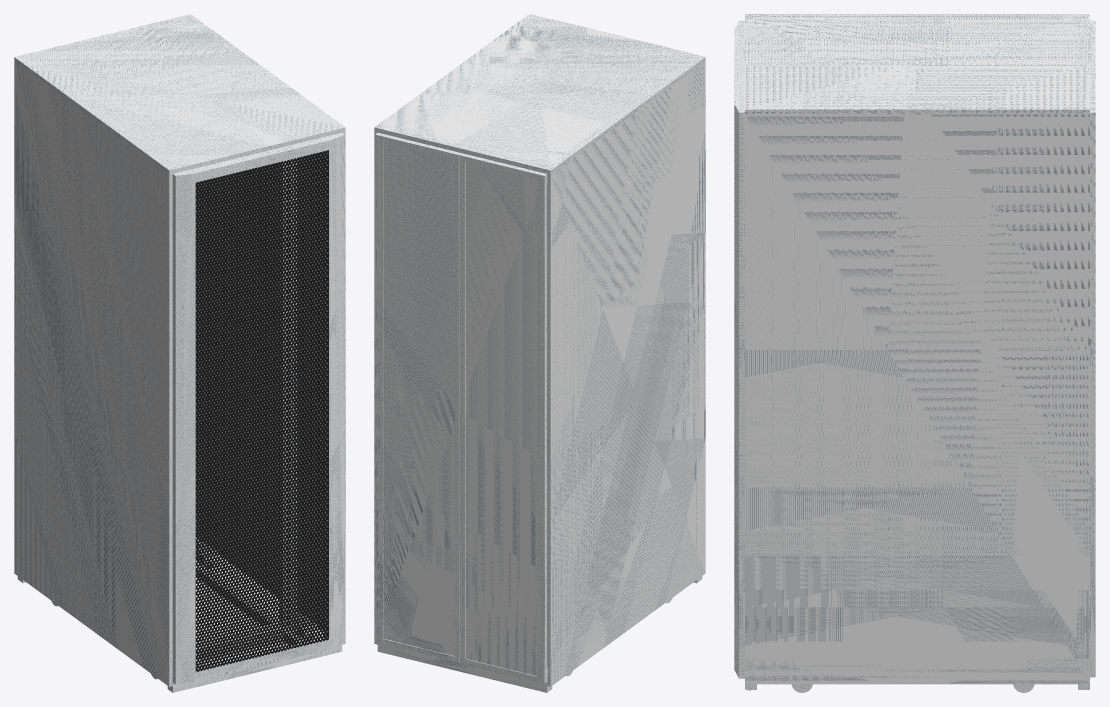
The picture shows the model from 3 angles, left to right: view 1: azimuth 30°, elevation 25°; view 2: azimuth 150°, elevation 25°; view 3: azimuth 270°, elevation 25°; orthographic projection. The views are drawn at different scales.
Parts seen in each view (by area): view 1: Front_Door_Glass (×2), Side_Panel_1_1, Top_Cap, Side_Panel_1, Front_Door_2 (×2), Front_Door_1, VED_Top, Component_1, Rail_3; view 2: Side_Panel_1_1, VED_Back_Door, Top_Cap, VED_Top, Rear_Split_Door_1 (×2), Rear_Split_Door_2 (×2), Component_1, Side_Panel_1; view 3: Side_Panel_1, Top_Cap, VED_Top, Front_Door_1, Rear_Split_Door_2, VED_Back_Door.
Boxes of the visible parts, box(x1,y1,x2,y2) form: Front_Door_Glass (×2): box(195, 150, 328, 672); Side_Panel_1_1: box(14, 61, 172, 686); Top_Cap: box(14, 14, 345, 174); Side_Panel_1: box(196, 132, 345, 644); Front_Door_2 (×2): box(172, 132, 344, 684); Front_Door_1: box(173, 134, 344, 682); VED_Top: box(14, 14, 345, 174); Component_1: box(17, 158, 342, 692); Rail_3: box(279, 160, 287, 628); Side_Panel_1_1: box(547, 61, 705, 686); VED_Back_Door: box(377, 133, 546, 682); Top_Cap: box(374, 14, 705, 172); VED_Top: box(374, 15, 704, 174); Rear_Split_Door_1 (×2): box(460, 154, 546, 683); Rear_Split_Door_2 (×2): box(375, 133, 461, 662); Component_1: box(377, 132, 702, 692); Side_Panel_1: box(374, 132, 377, 644); Side_Panel_1: box(745, 114, 1089, 684); Top_Cap: box(745, 14, 1089, 114); VED_Top: box(745, 14, 1089, 114); Front_Door_1: box(734, 20, 744, 678); Rear_Split_Door_2: box(1090, 67, 1095, 677); VED_Back_Door: box(1090, 20, 1094, 676).
Bounding box in the file's own units: 31.5 × 50.27 × 90.36.
Materials: 7 (2 with a texture image).
